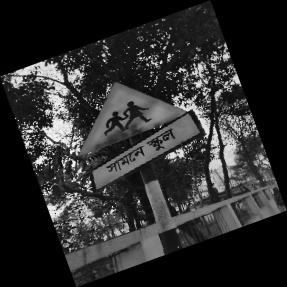School-in-front: (79, 82, 204, 191)
